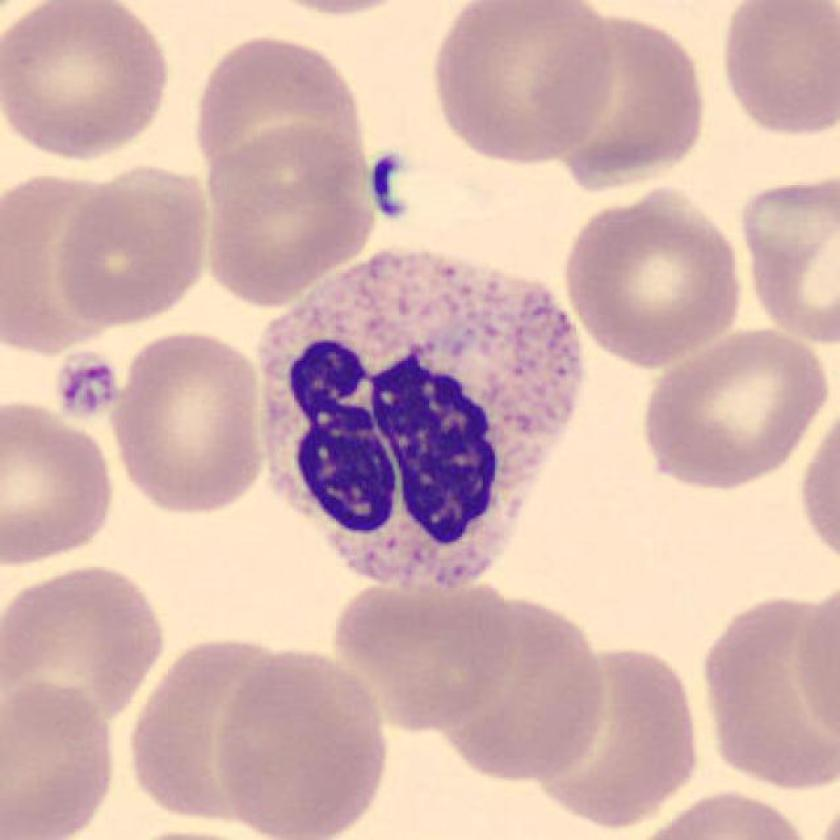neutrophil: (255, 251, 579, 591)
